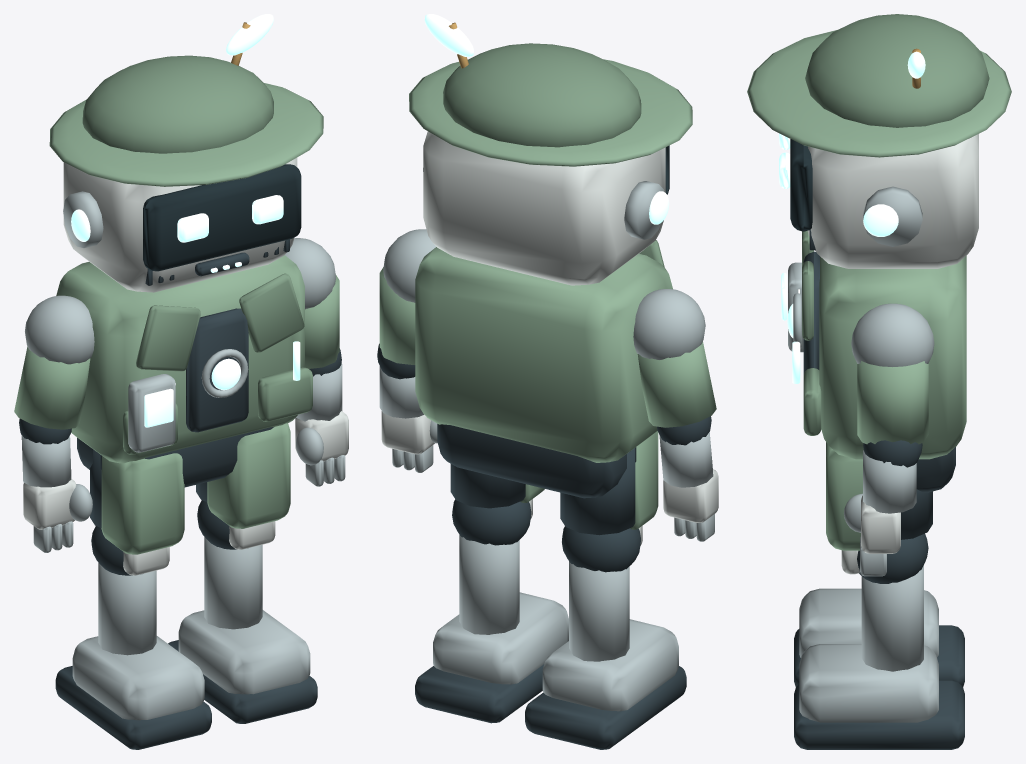
Rendered from biology-robot.glb.
The picture shows the model from 3 angles, left to right: view 1: azimuth 30°, elevation 25°; view 2: azimuth 150°, elevation 25°; view 3: azimuth 270°, elevation 25°; orthographic projection. The views are drawn at different scales.
Visible parts, largest first — view 1: Body Discipline garment, Body Brushed titanium, Body Graphite joints, attention_head Stitched trim, attention_head Discipline garment, attention_head Dark optical glass, Body Stitched trim, attention_head Ceramic face shell, gesture_arm Brushed titanium, Body Ceramic face shell, gesture_arm Discipline garment, Body AI luminous elements (+6 smaller); view 2: Body Discipline garment, Body Brushed titanium, Body Graphite joints, attention_head Ceramic face shell, attention_head Stitched trim, attention_head Discipline garment, gesture_arm Brushed titanium, gesture_arm Discipline garment, Body Ceramic face shell, gesture_arm Ceramic face shell, attention_head AI luminous elements, attention_head Brushed titanium (+1 smaller); view 3: Body Brushed titanium, Body Discipline garment, attention_head Ceramic face shell, attention_head Stitched trim, Body Graphite joints, attention_head Discipline garment, gesture_arm Brushed titanium, gesture_arm Discipline garment, Body Stitched trim, attention_head Brushed titanium, attention_head Dark optical glass, gesture_arm Ceramic face shell (+3 smaller).
Part boxes in pixels (<box>): Body Discipline garment: <box>14,255,304,554</box>; Body Brushed titanium: <box>21,295,310,720</box>; Body Graphite joints: <box>19,308,317,749</box>; attention_head Stitched trim: <box>82,55,273,153</box>; attention_head Discipline garment: <box>49,82,323,186</box>; attention_head Dark optical glass: <box>143,164,301,271</box>; Body Stitched trim: <box>123,273,312,454</box>; attention_head Ceramic face shell: <box>63,157,297,292</box>; gesture_arm Brushed titanium: <box>285,238,345,486</box>; Body Ceramic face shell: <box>23,479,275,575</box>; gesture_arm Discipline garment: <box>305,274,339,368</box>; Body AI luminous elements: <box>144,341,300,427</box>; Body Discipline garment: <box>415,247,716,529</box>; Body Brushed titanium: <box>433,289,714,711</box>; Body Graphite joints: <box>415,416,711,749</box>; attention_head Ceramic face shell: <box>423,131,665,285</box>; attention_head Stitched trim: <box>443,43,641,147</box>; attention_head Discipline garment: <box>409,59,692,166</box>; gesture_arm Brushed titanium: <box>379,229,437,472</box>; gesture_arm Discipline garment: <box>379,267,415,364</box>; Body Ceramic face shell: <box>529,469,718,545</box>; gesture_arm Ceramic face shell: <box>381,411,434,454</box>; attention_head AI luminous elements: <box>424,14,669,224</box>; attention_head Brushed titanium: <box>423,168,664,239</box>; Body Brushed titanium: <box>788,262,938,722</box>; Body Discipline garment: <box>819,255,966,550</box>; attention_head Ceramic face shell: <box>807,134,978,268</box>; attention_head Stitched trim: <box>805,14,989,127</box>; Body Graphite joints: <box>794,251,964,749</box>; attention_head Discipline garment: <box>747,30,1011,157</box>; gesture_arm Brushed titanium: <box>844,303,934,576</box>; gesture_arm Discipline garment: <box>857,361,928,444</box>; Body Stitched trim: <box>802,230,821,435</box>; attention_head Brushed titanium: <box>863,186,922,246</box>; attention_head Dark optical glass: <box>790,139,812,231</box>; gesture_arm Ceramic face shell: <box>861,495,900,553</box>.
Bounding box in the file's own units: 0.2654 × 0.5186 × 0.178.
